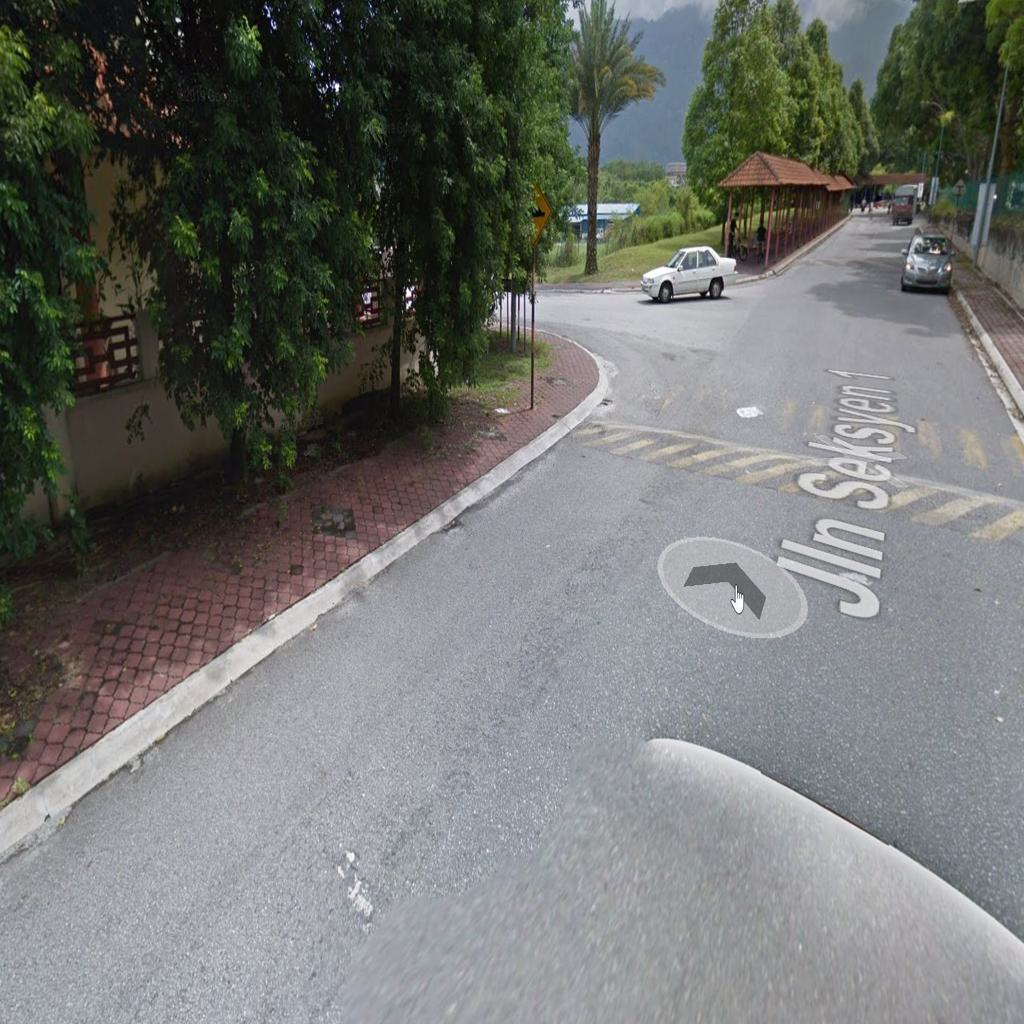Junction: (513, 266, 798, 442)
